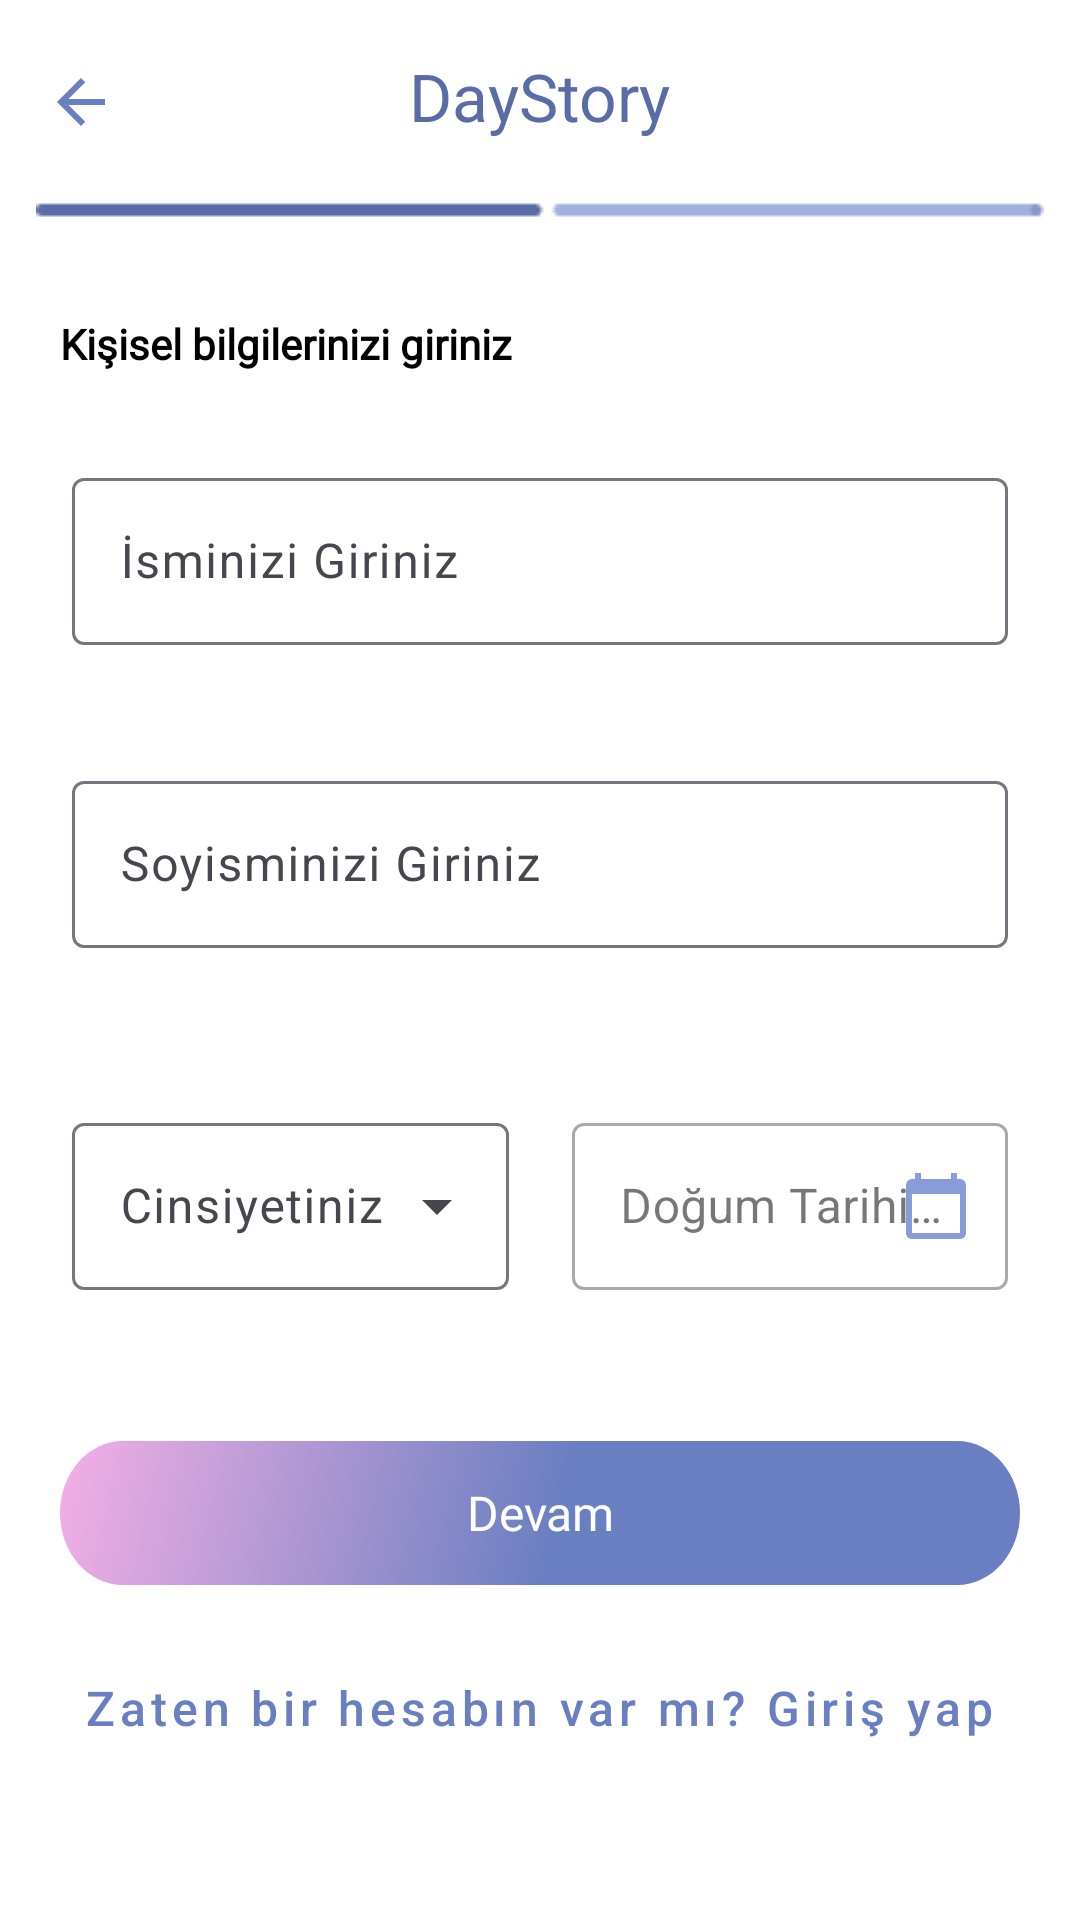

Where to tap for icons on this 1080px x 1920px app screen, as (x=x, y=y):
back: (x=81, y=102)
